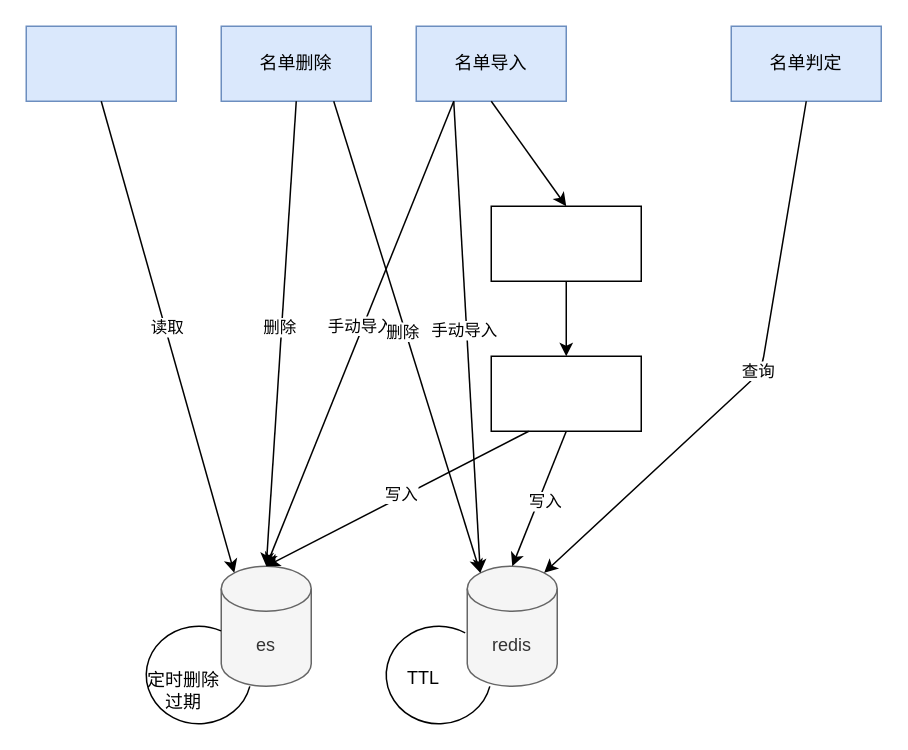
Some shapes in this 908 by 750 pixel diagram are drawn without their labels. The centre of each missing label's shape, as x and y in pixels:
flink: point 565,393
名单查询: point 100,63
规则导入: point 565,243
